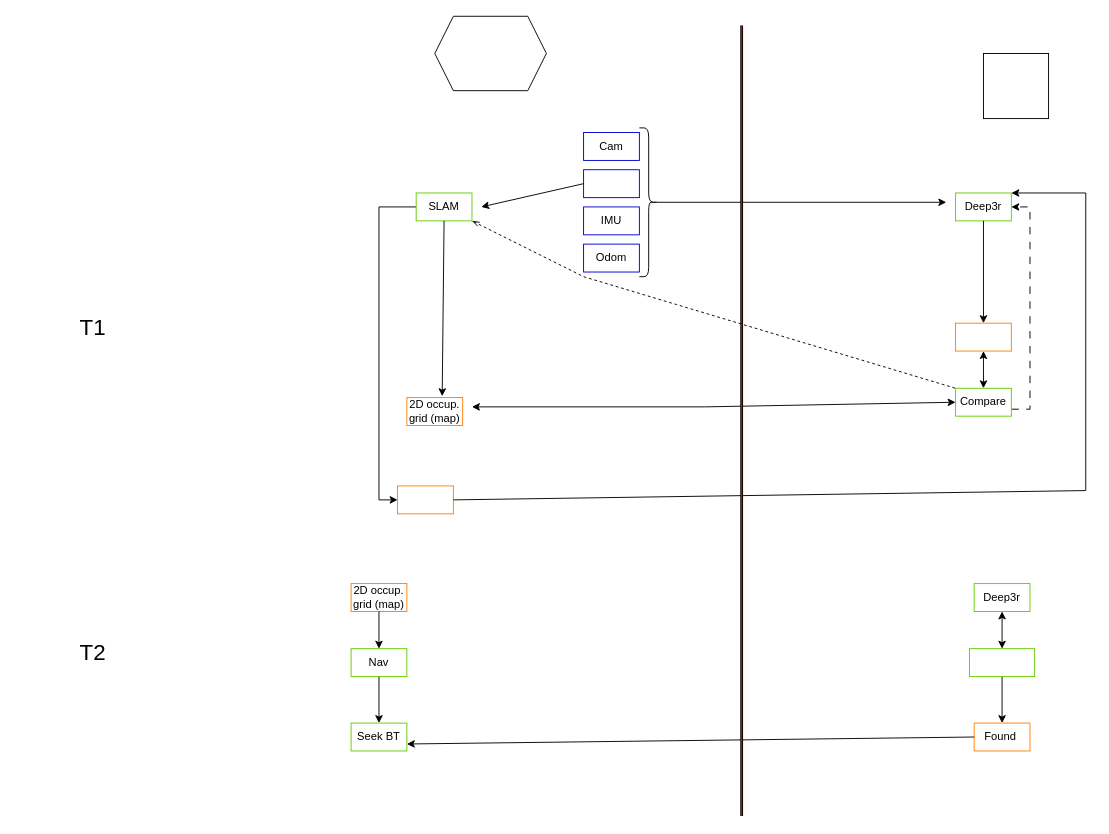
The diagram is 1109 pixels wide and 834 high, and some of its shapes have lost their labels. Each missing label, with the centre of its shape:
"Exit?" goes at point 425,499.
"LiDAR" goes at point 611,183.
"LLM/decis making" goes at point 1002,662.
"Pointcloud2" goes at point 983,336.
"Robot" goes at point 490,53.
"Server" goes at point 1016,86.
